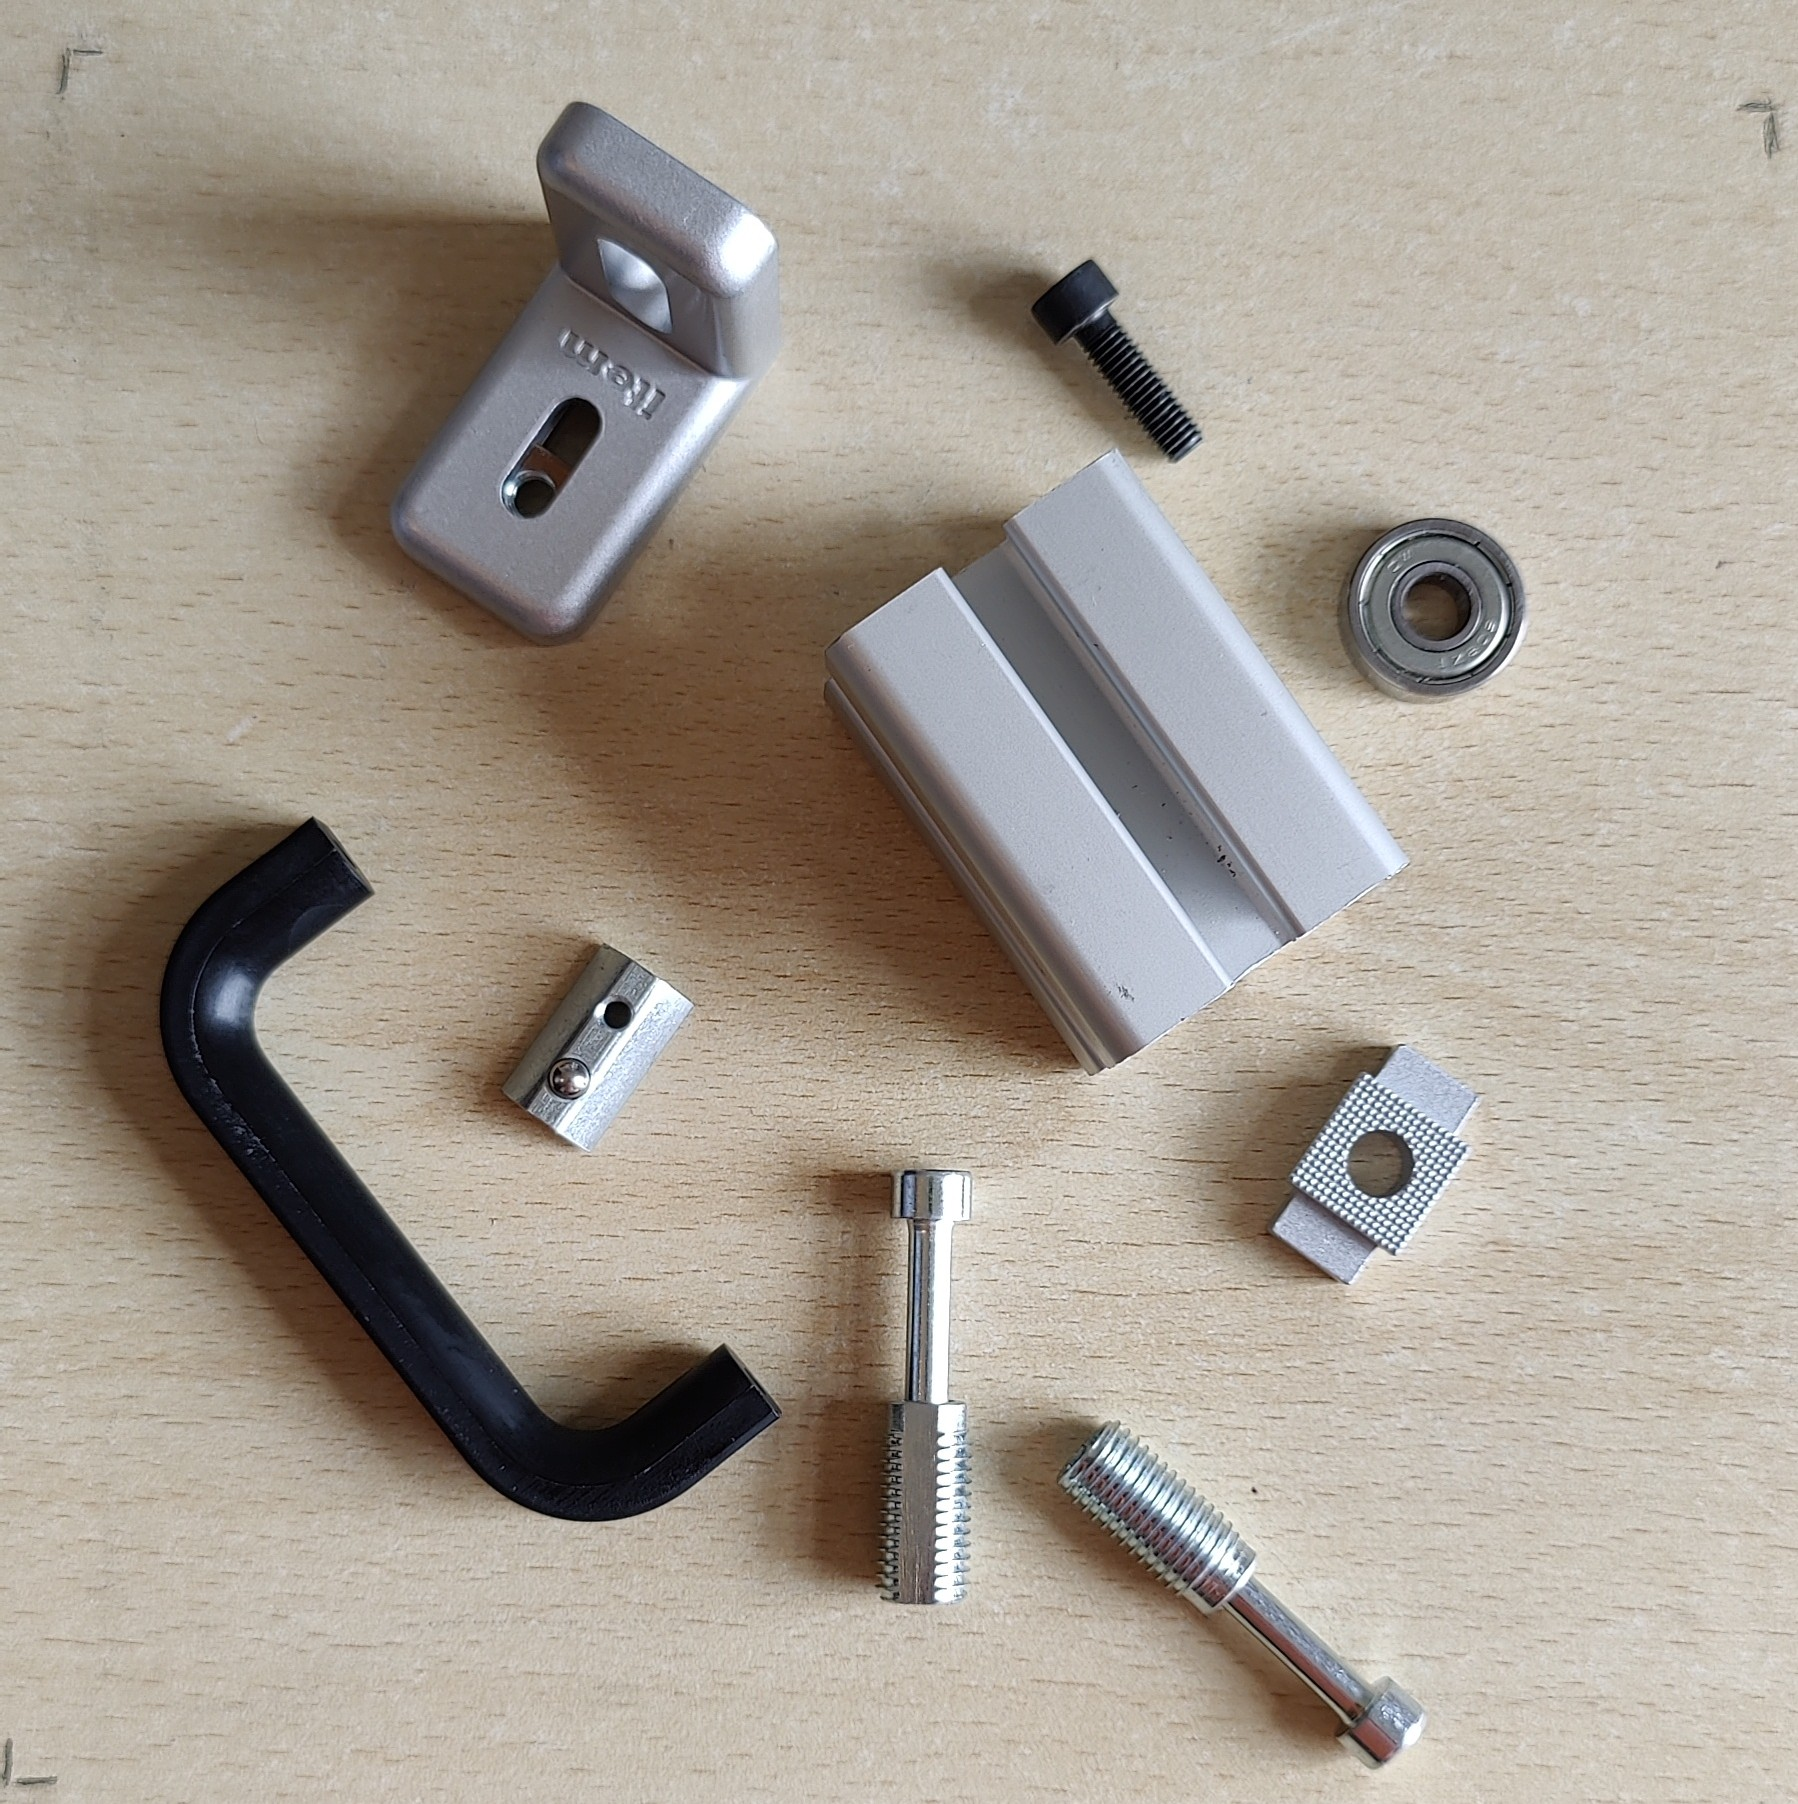Aluminium Extension: (817, 441, 1414, 1080)
Ball Bearing: (1334, 515, 1531, 708)
Multiwinkel: (385, 97, 787, 649)
Pull Handle: (151, 815, 785, 1524)
Shoulder Socket Head Cap Screw: (1050, 1416, 1432, 1774), (876, 1164, 975, 1608)
Socket Head Cap Screw: (1026, 252, 1205, 464)
T Nut Square: (1268, 1044, 1484, 1290)
T Spring Nut: (501, 942, 700, 1155)
